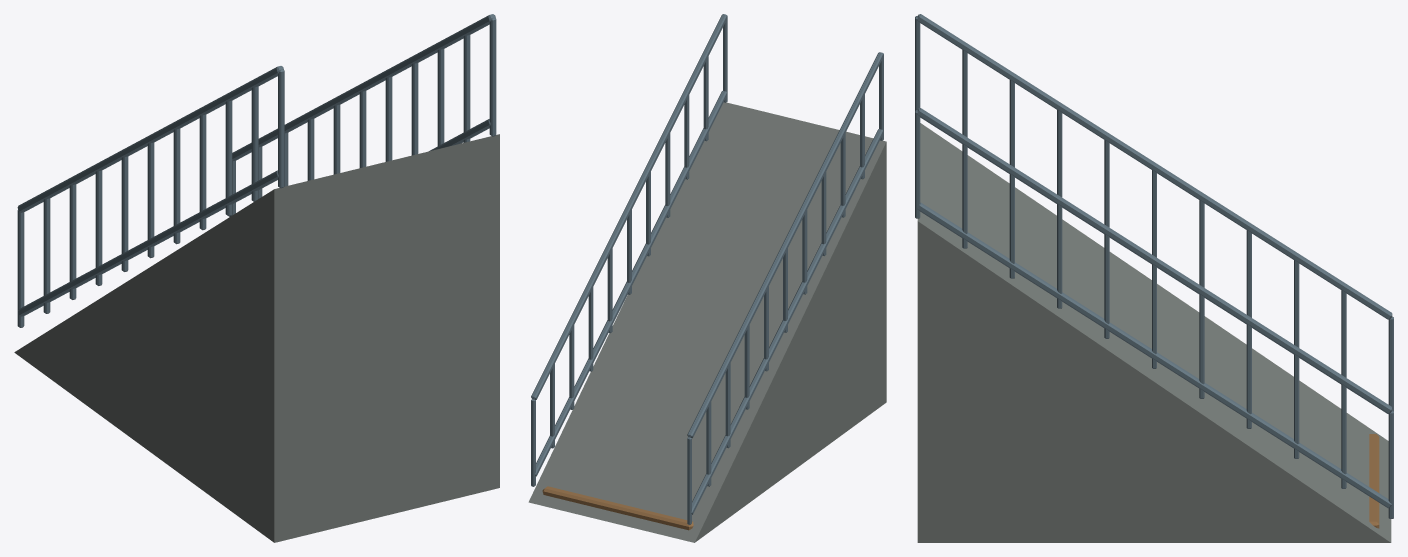
File: architecture-village-ramp.lod0.glb
The picture shows the model from 3 angles, left to right: view 1: azimuth 30°, elevation 25°; view 2: azimuth 150°, elevation 25°; view 3: azimuth 270°, elevation 25°; orthographic projection. The views are drawn at different scales.
Parts seen in each view (by area): view 1: architecture-village-ramp__body; view 2: architecture-village-ramp__body; view 3: architecture-village-ramp__body.
Boxes of the visible parts, bbox=[...] form: architecture-village-ramp__body: bbox=[14, 14, 499, 542]; architecture-village-ramp__body: bbox=[528, 14, 886, 542]; architecture-village-ramp__body: bbox=[915, 14, 1393, 542].
Bounding box in the file's own units: 2 × 4.02 × 4.05.
